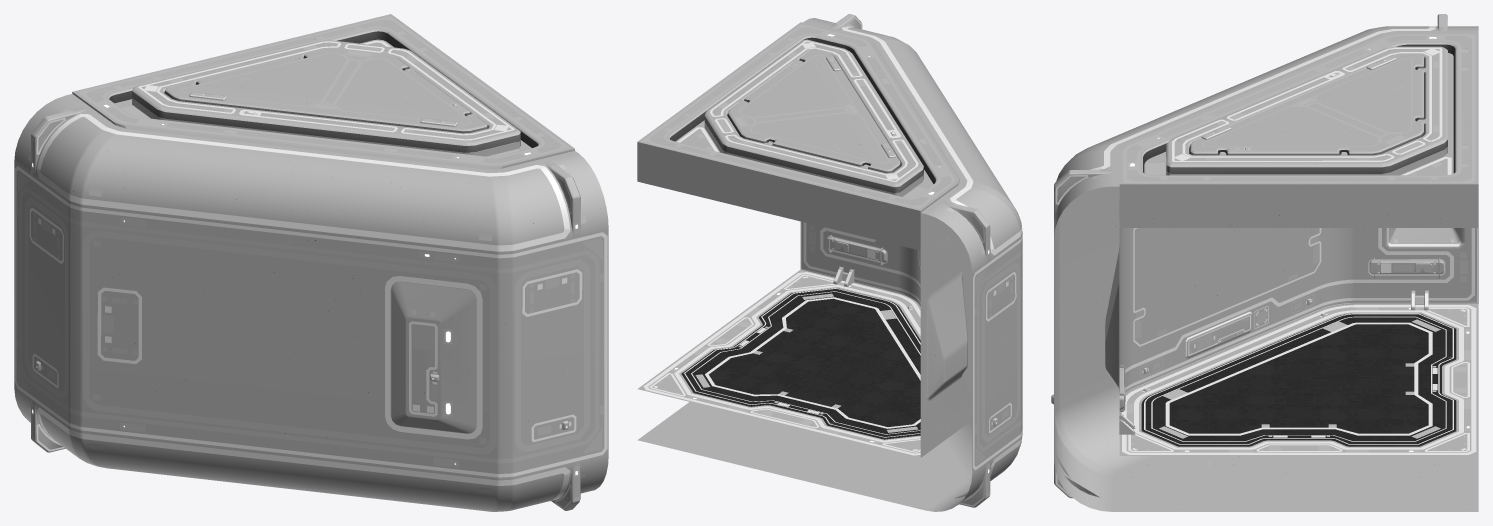
The model's file is SM_Modular_WallCorner_Merged.fbx.
3 renders of one model, left to right at view 1: azimuth 30°, elevation 25°; view 2: azimuth 150°, elevation 25°; view 3: azimuth 270°, elevation 25°, orthographic. The views are drawn at different scales.
Visible parts, largest first — view 1: SM_Modular_WallCorner_Merged_LOD0; view 2: SM_Modular_WallCorner_Merged_LOD0; view 3: SM_Modular_WallCorner_Merged_LOD0.
Part boxes in pixels (x1,y1,x2,y2): SM_Modular_WallCorner_Merged_LOD0: (14, 14, 608, 511); SM_Modular_WallCorner_Merged_LOD0: (637, 14, 1022, 511); SM_Modular_WallCorner_Merged_LOD0: (1051, 14, 1478, 511).
Bounding box in the file's own units: 595 × 595 × 521.
